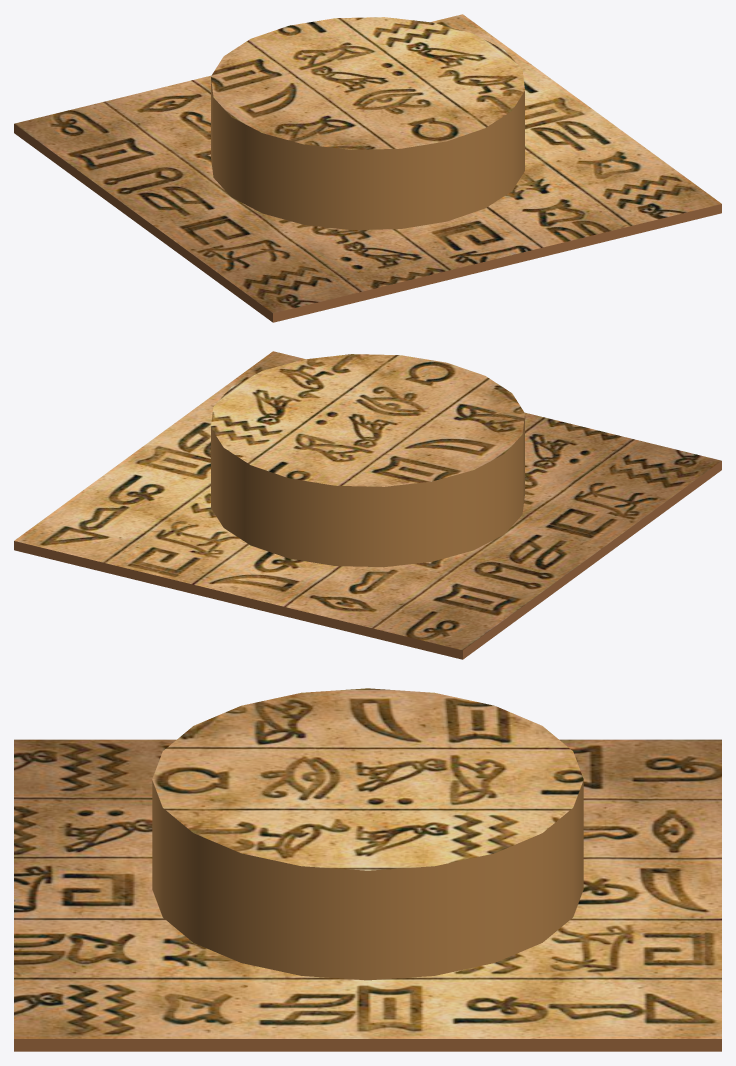
File: Modelo_Ari_4.fbx
The picture shows the model from 3 angles, top to bottom: view 1: azimuth 30°, elevation 25°; view 2: azimuth 150°, elevation 25°; view 3: azimuth 270°, elevation 25°; orthographic projection. The views are drawn at different scales.
Parts seen in each view (by area): view 1: pCube1, pCylinder1; view 2: pCube1, pCylinder1; view 3: pCube1, pCylinder1.
Part boxes in pixels (bbox=[...]): pCube1: bbox=[14, 14, 721, 322]; pCylinder1: bbox=[211, 17, 524, 230]; pCube1: bbox=[14, 351, 721, 659]; pCylinder1: bbox=[211, 354, 524, 567]; pCube1: bbox=[14, 739, 721, 1051]; pCylinder1: bbox=[152, 688, 583, 980].
Size of the model in its own units: 50 by 10.42 by 50.
